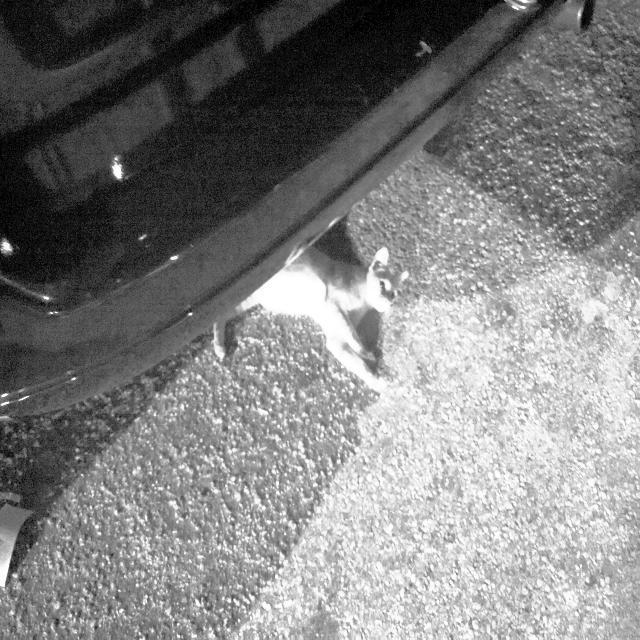Cat: (208, 239, 436, 401)
